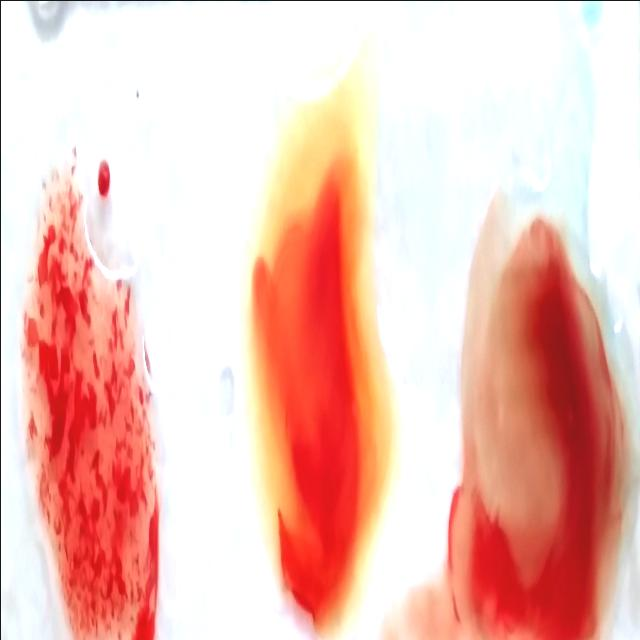D: (26, 177, 153, 640)
